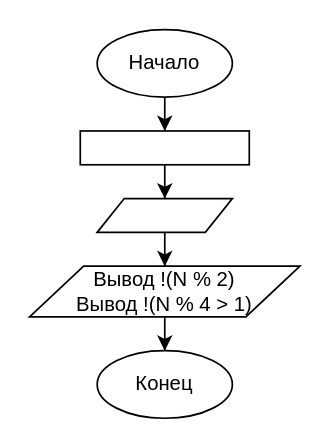
Image size: 330x448. Some labels were removed from this diagram. Each missing label, with the centre of its shape:
"Ввод N" goes at [163,214].
"Целове число N" goes at [164,147].
